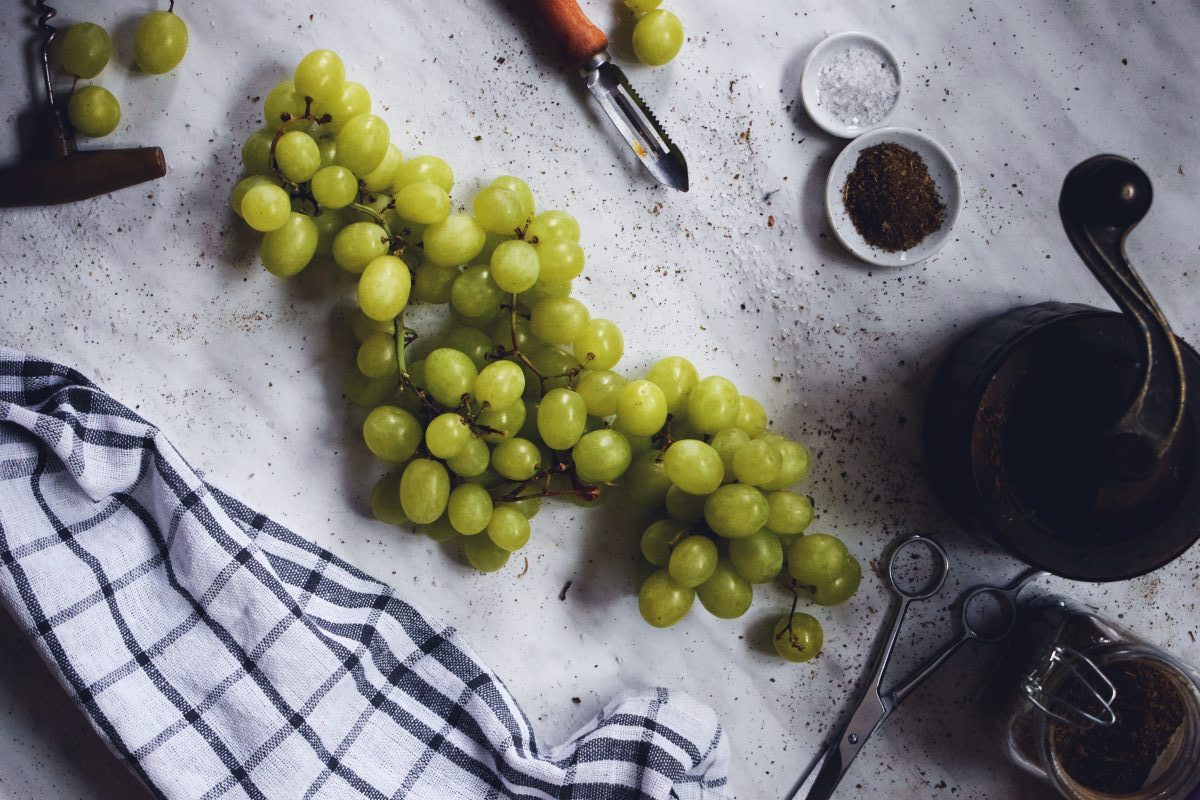Green grapes: (263, 83, 851, 646)
